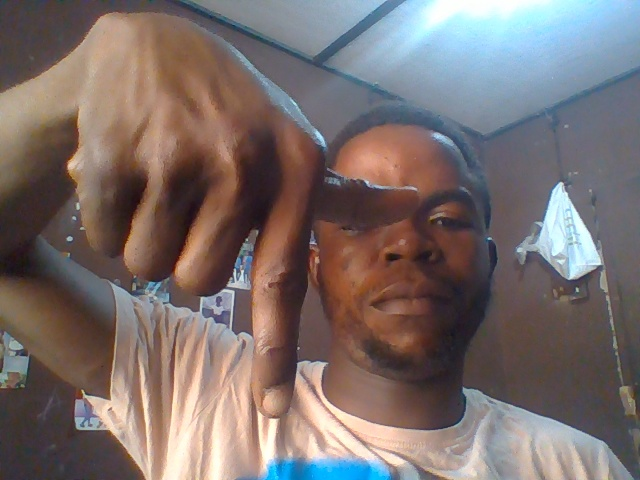Down: (69, 10, 422, 426)
